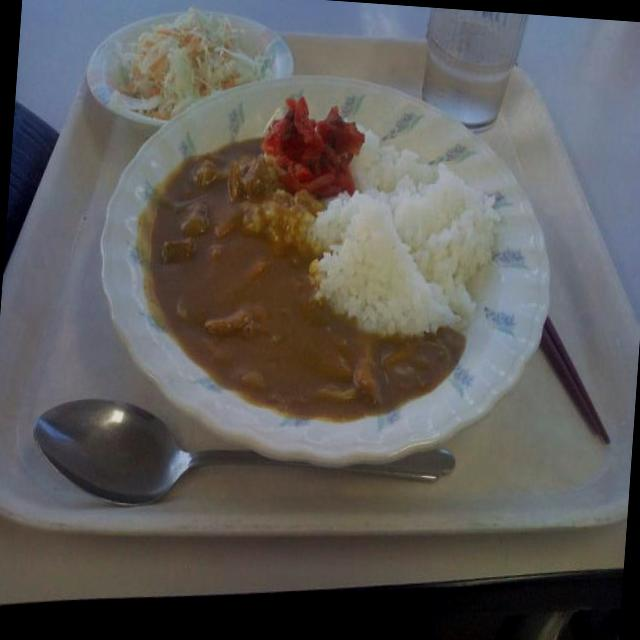Beef Curry: (129, 114, 501, 438)
Rice: (342, 132, 507, 336)
